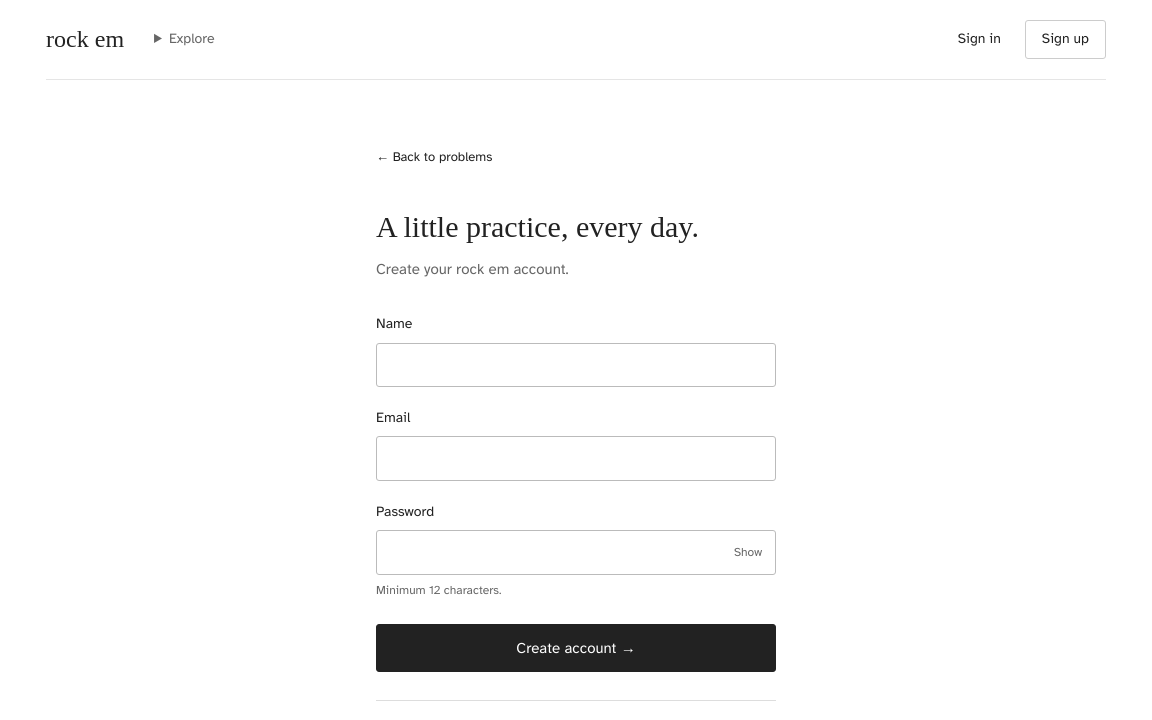
Test: Account › uses the registration contract for status 409
The image size is (1152, 720).
Expected: the button "Create account →" is enabled, [376, 624, 776, 672]
Step 1. Type "Sam Rivers" into the field labelled "Name" → (576, 365), box [376, 343, 776, 387]
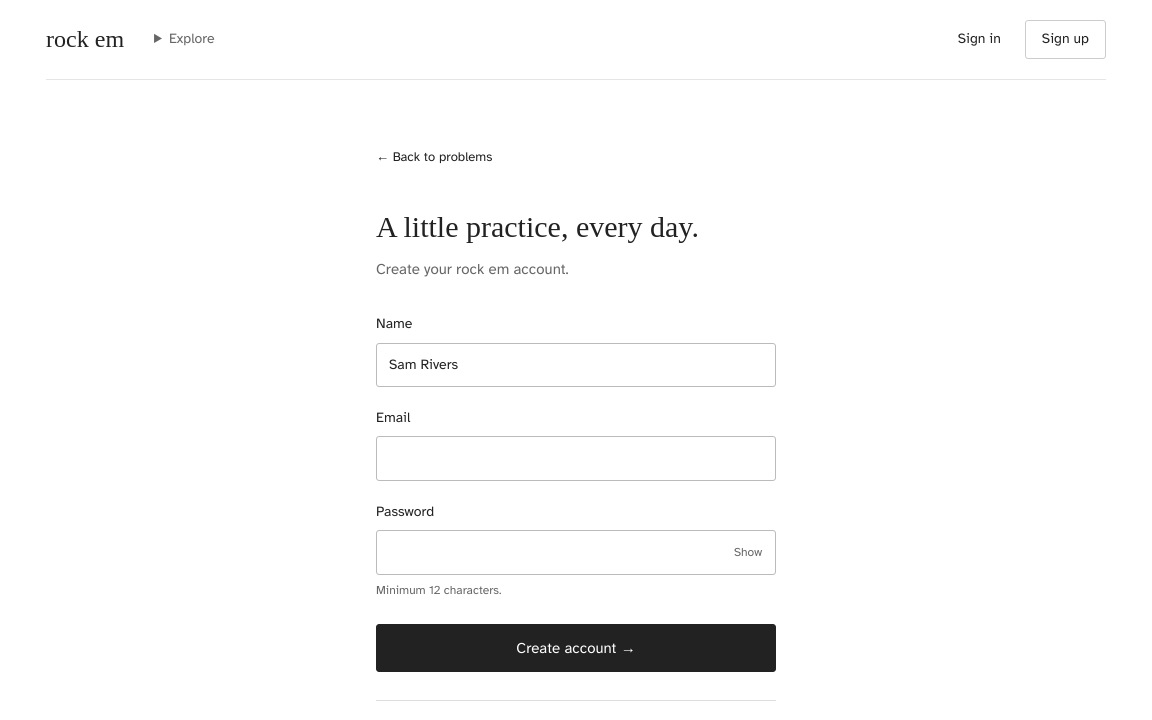
Step 2. Type "sam@example.com" into the field labelled "Email" → (576, 459), box [376, 436, 776, 481]
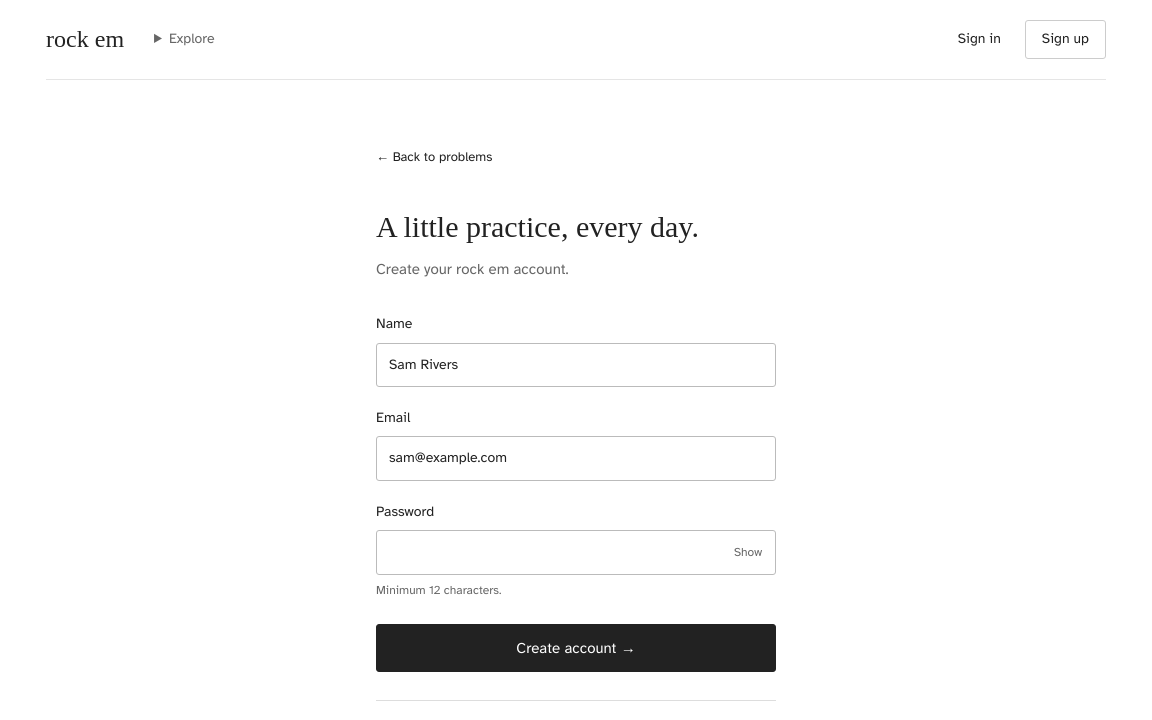
Step 3. Type "a-secure-password" into the password field labelled "Password" → (576, 552), box [376, 530, 776, 575]
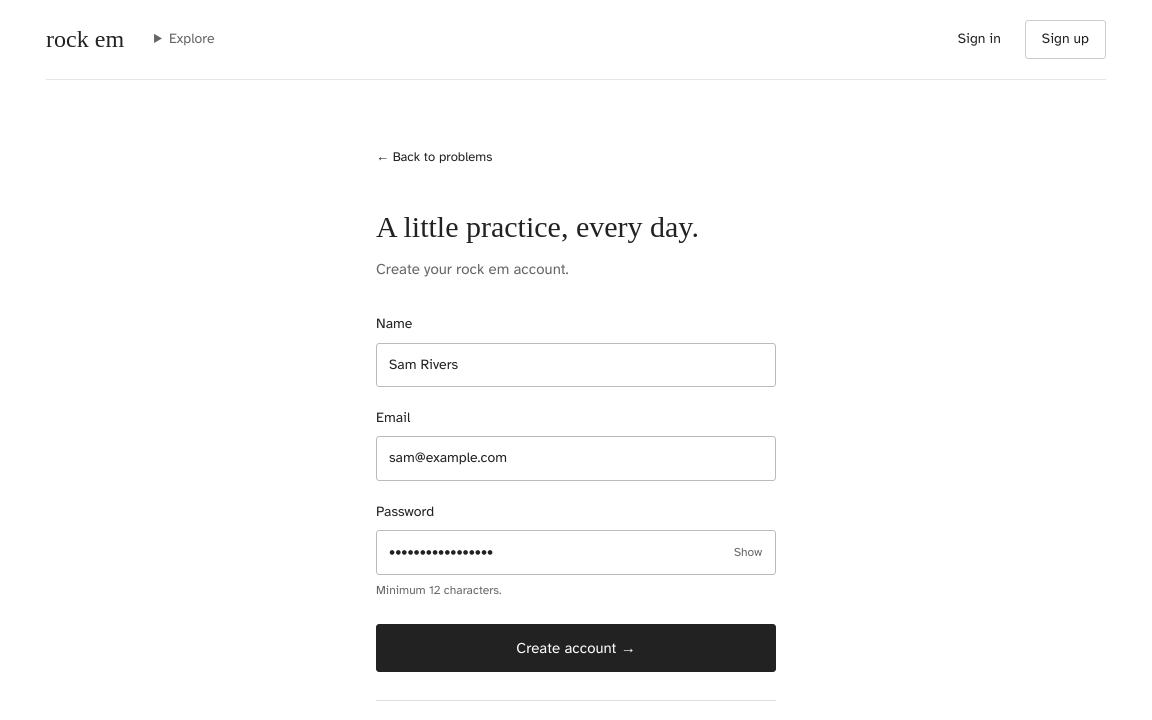
Step 4. Click the button "Create account →" → (576, 648), box [376, 624, 776, 672]
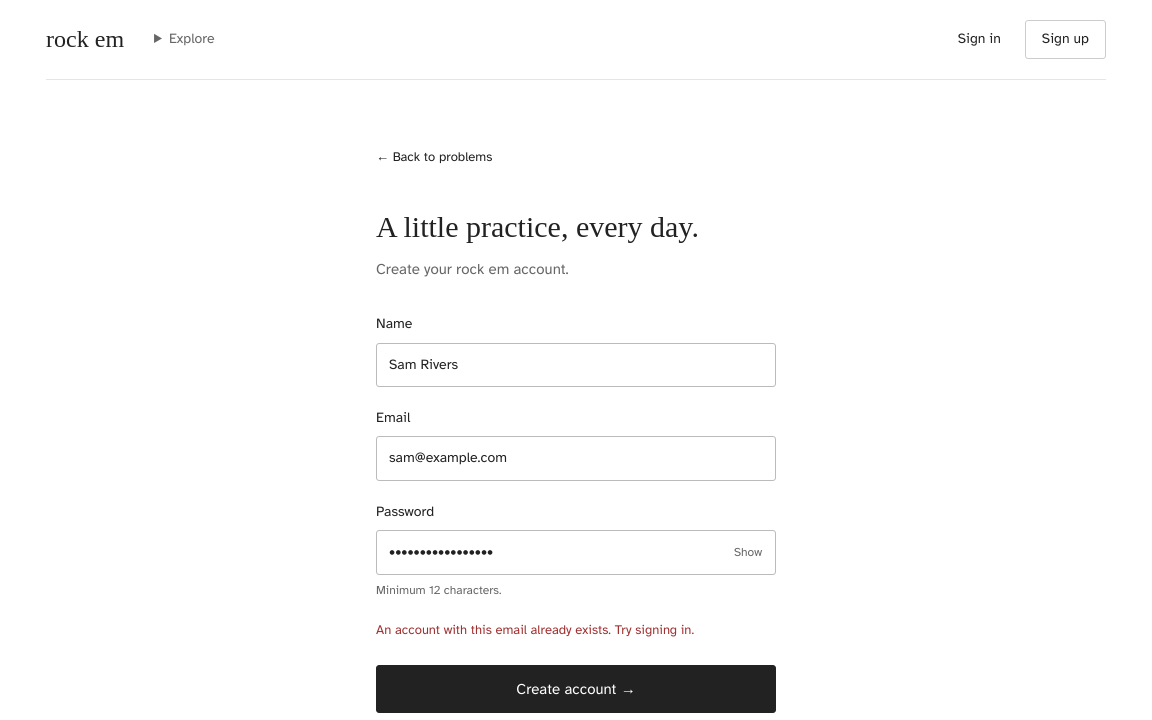
Now the message shows "already exists", box [376, 622, 694, 638]
